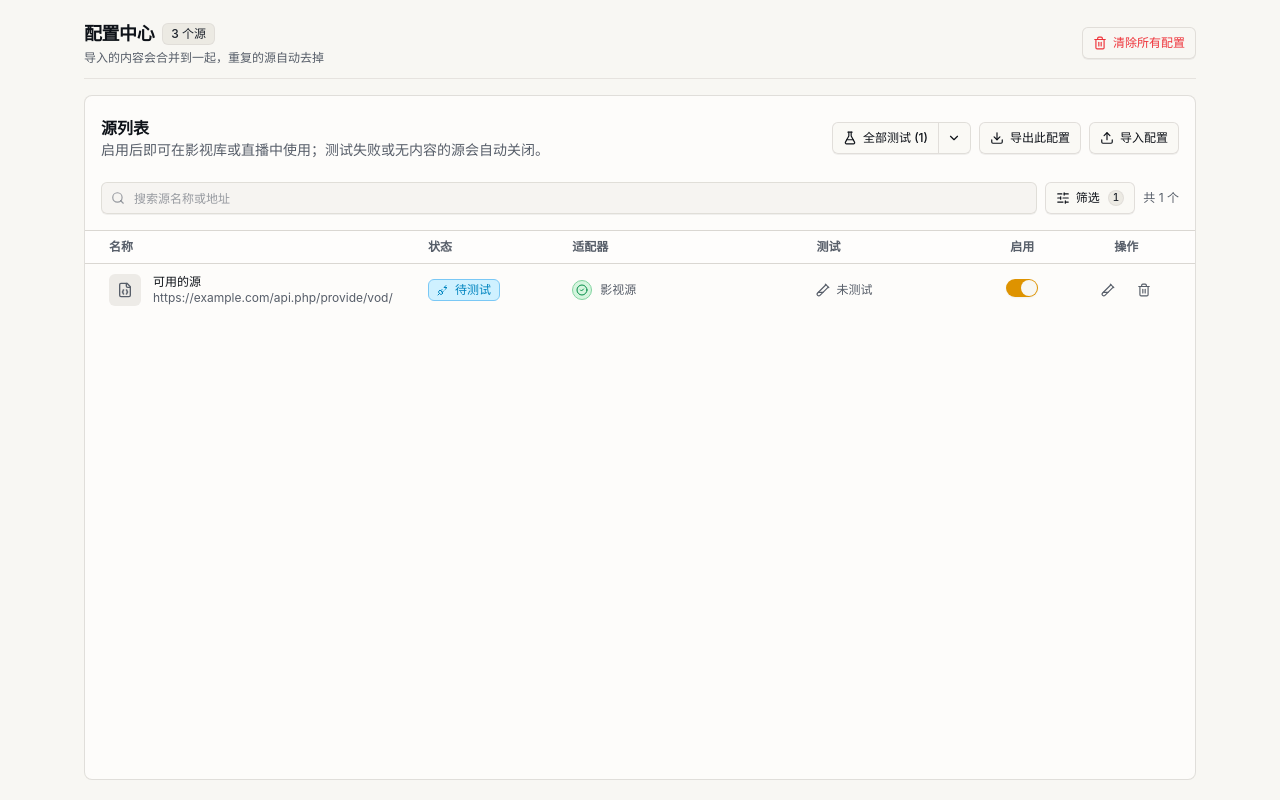
it: config center › filters by one adapter on its own
What coordinates should you click on to do the following:
click the button "筛选 1"
I would click on:
 (1090, 198)
Its box is [1045, 182, 1135, 214].
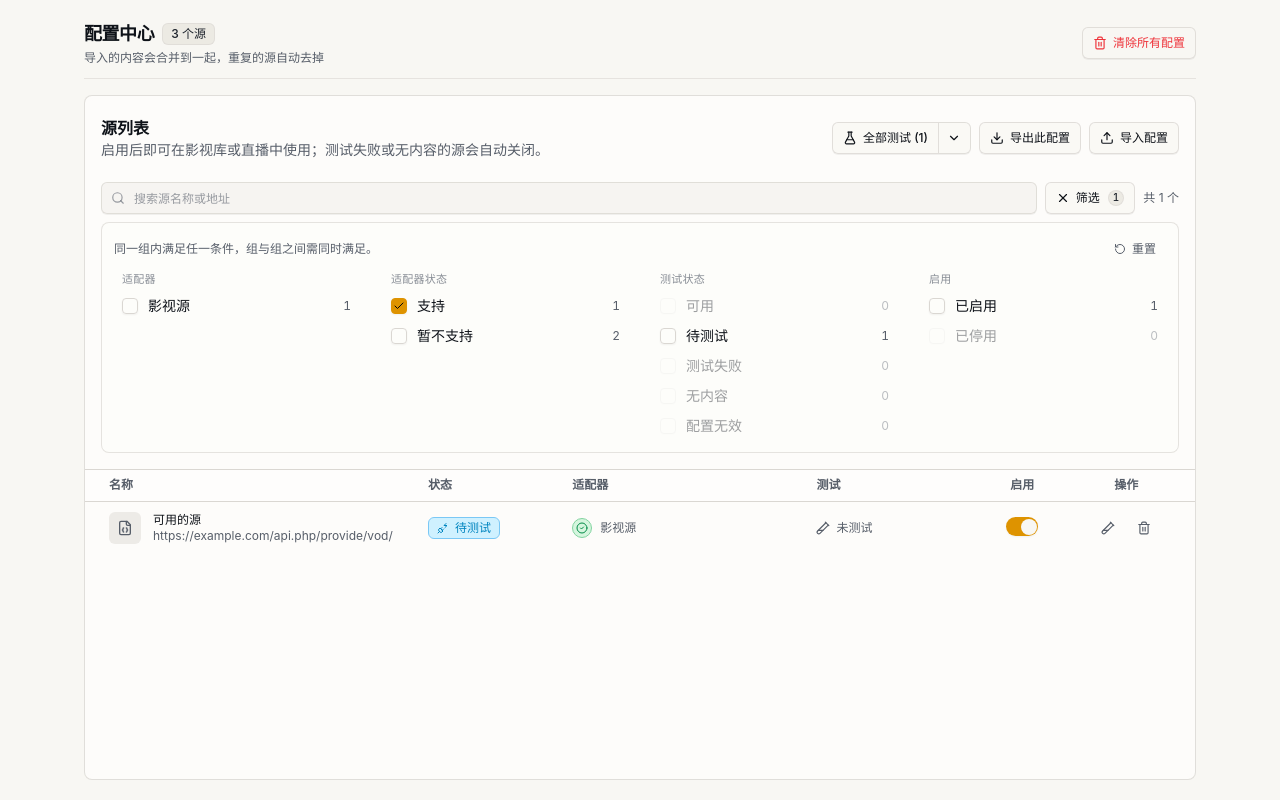
What coordinates should you click on to do the following:
click the button "重置"
I would click on:
 (1135, 249)
Its box is [1104, 235, 1166, 263].
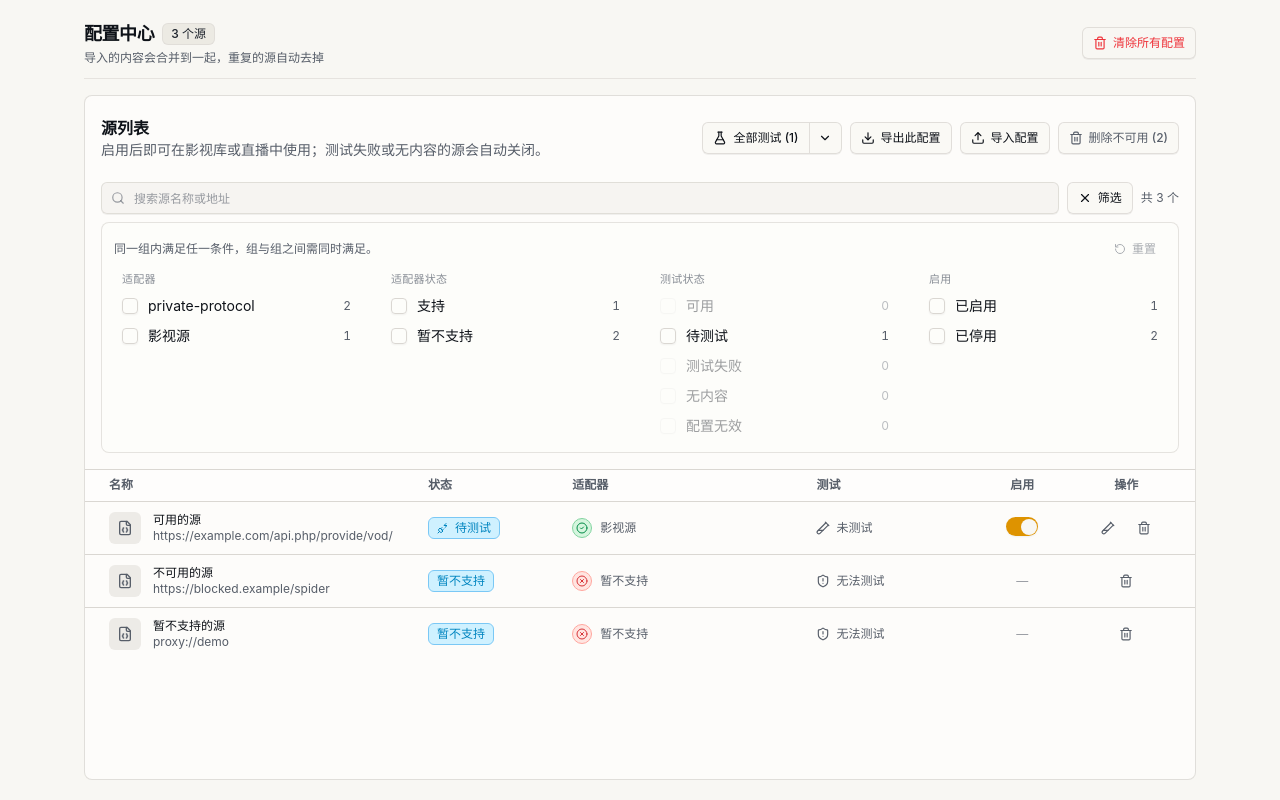
What coordinates should you click on to do the following:
click the checkbox named "影视源"
I would click on:
 (130, 336)
Its box is [122, 328, 138, 344].
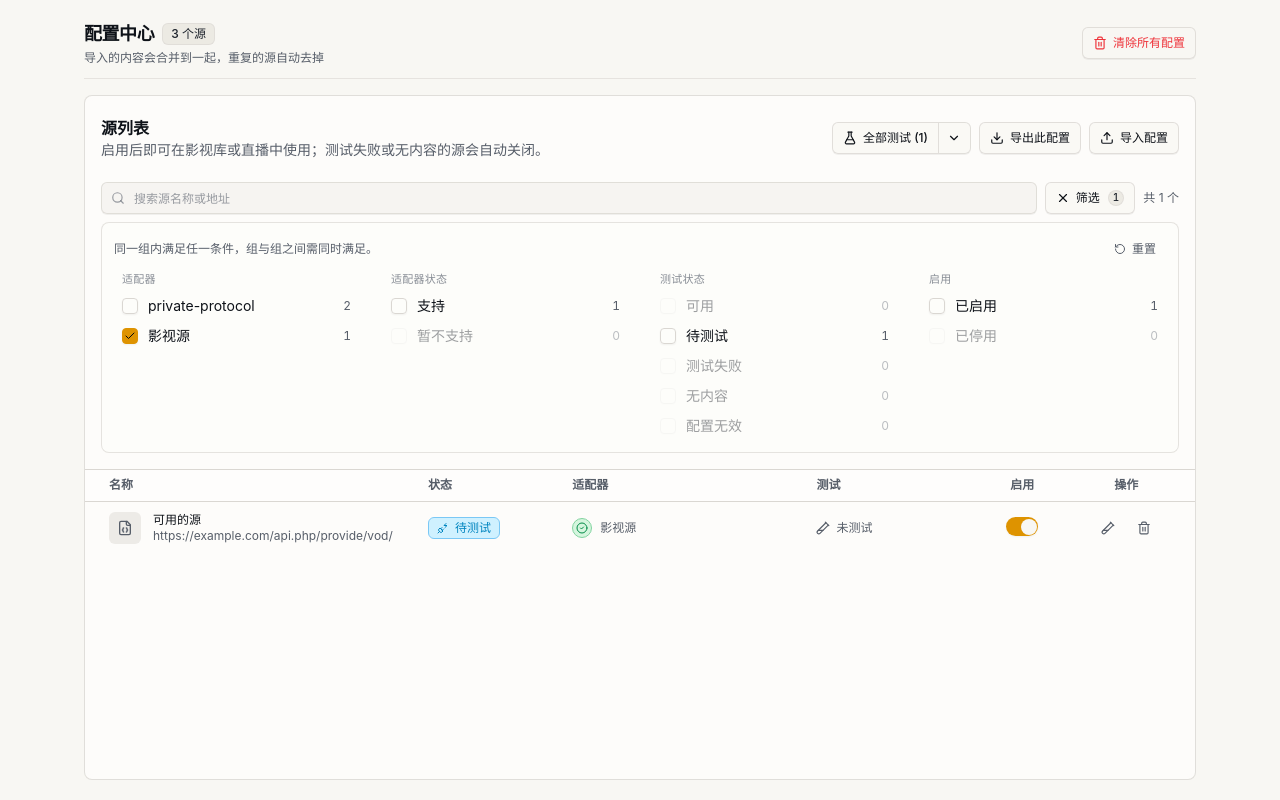
Expected: the text "可用的源" is shown, [153, 512, 201, 527]
Expected: the text "不可用的源" is gone
